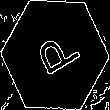P_SW: (28, 27, 82, 83)
